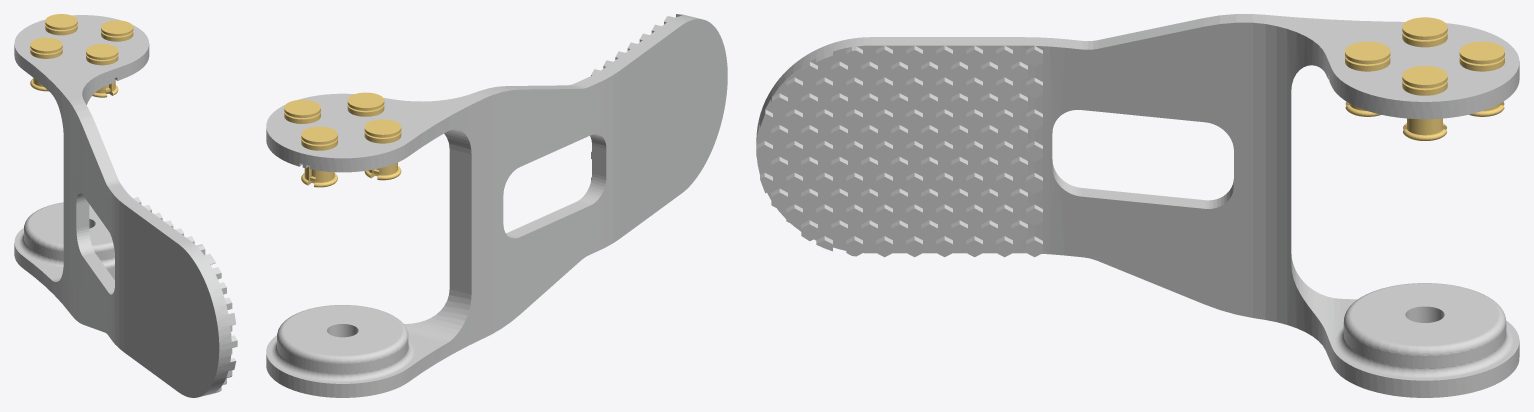
File: gripper.dae
3 renders of one model, left to right at view 1: azimuth 30°, elevation 25°; view 2: azimuth 150°, elevation 25°; view 3: azimuth 270°, elevation 25°, orthographic. The views are drawn at different scales.
Visible parts, largest first — view 1: Untitled_010, insert_004, insert_003, insert_002, insert_001, base_004, base_003; view 2: Untitled_010, base_001, insert_001, base_003, insert_003, insert_004, insert_002; view 3: Untitled_010, base_002, insert_001, insert_004, insert_002, insert_003.
Part boxes in pixels (left/top/right/bottom): Untitled_010: left=14, top=15, right=237, bottom=397; insert_004: left=86, top=44, right=118, bottom=93; insert_003: left=30, top=37, right=62, bottom=53; insert_002: left=101, top=20, right=133, bottom=36; insert_001: left=45, top=14, right=77, bottom=29; base_004: left=86, top=54, right=118, bottom=97; base_003: left=30, top=48, right=62, bottom=91; Untitled_010: left=266, top=14, right=727, bottom=397; base_001: left=301, top=138, right=337, bottom=187; insert_001: left=301, top=126, right=337, bottom=183; base_003: left=364, top=131, right=401, bottom=180; insert_003: left=364, top=119, right=401, bottom=176; insert_004: left=347, top=92, right=384, bottom=110; insert_002: left=284, top=99, right=320, bottom=117; Untitled_010: left=756, top=14, right=1519, bottom=397; base_002: left=1402, top=80, right=1447, bottom=140; insert_001: left=1459, top=41, right=1504, bottom=64; insert_004: left=1345, top=41, right=1390, bottom=64; insert_002: left=1402, top=66, right=1447, bottom=88; insert_003: left=1402, top=17, right=1447, bottom=39.
Size of the model in its own units: 0.027 by 0.0799 by 0.0354.
